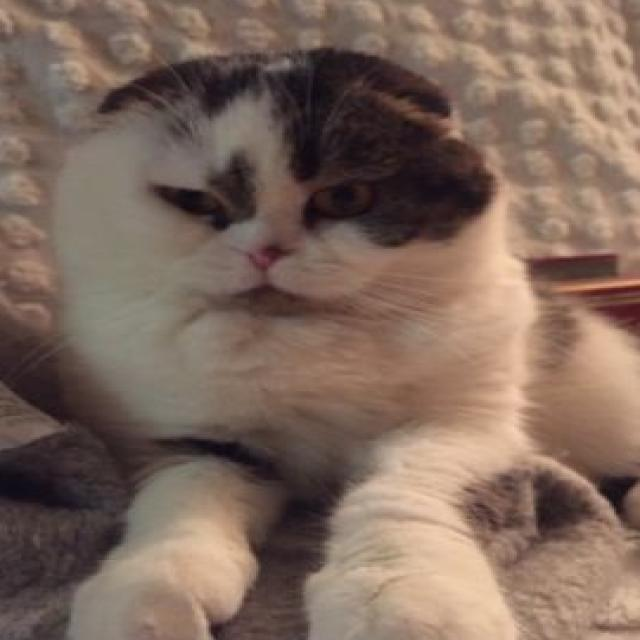Scottish Fold: (40, 39, 640, 640)
